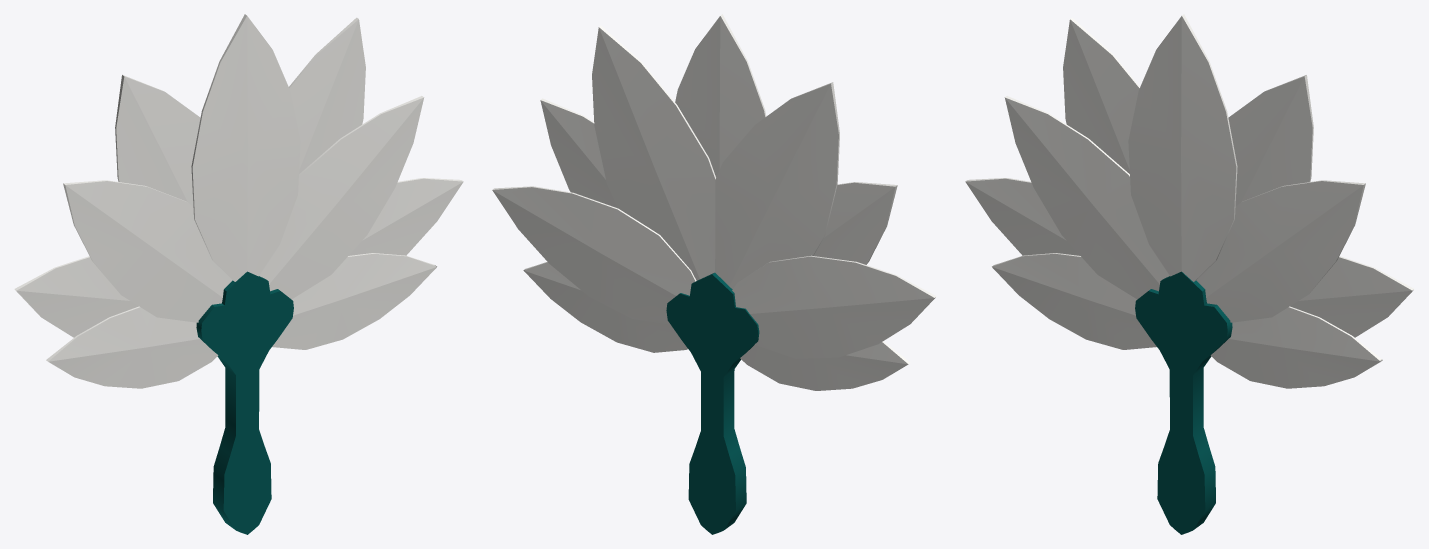
Rendered from 선인부채.fbx.
The picture shows the model from 3 angles, left to right: view 1: azimuth 30°, elevation 25°; view 2: azimuth 150°, elevation 25°; view 3: azimuth 330°, elevation 25°; orthographic projection.
Visible parts, largest first — view 1: 4tierbucae; view 2: 4tierbucae; view 3: 4tierbucae.
Part boxes in pixels (x1,y1,x2,y2): 4tierbucae: [14, 14, 463, 534]; 4tierbucae: [492, 14, 936, 534]; 4tierbucae: [965, 14, 1414, 534].
Bounding box in the file's own units: 38.03 × 42.17 × 1.64.
Materials: 1 (1 with a texture image).
